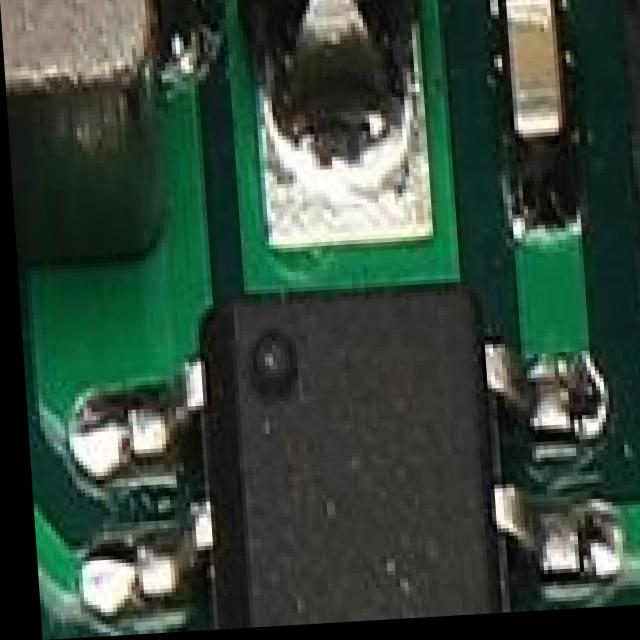IC: (179, 256, 542, 632)
capacitor: (504, 0, 579, 193), (624, 0, 640, 459)
diode: (228, 0, 435, 121)
inductor: (0, 0, 198, 272)
